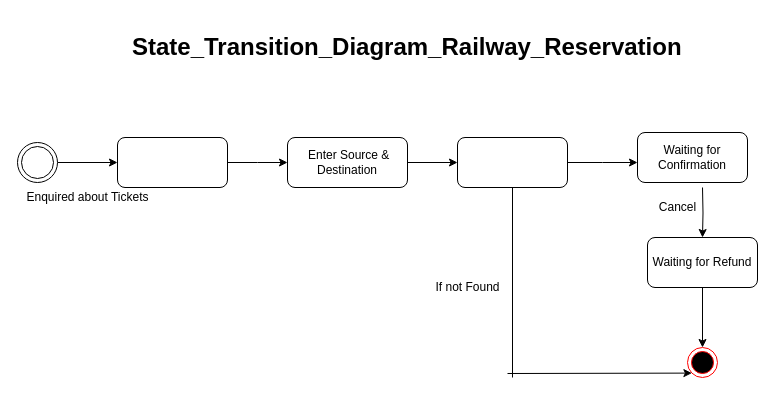
Some shapes in this 775 by 399 pixel diagram are drawn without their labels. Each missing label, with the centre of its shape:
Book Tickets: the point at 512,162
Search Tickets: the point at 172,162
